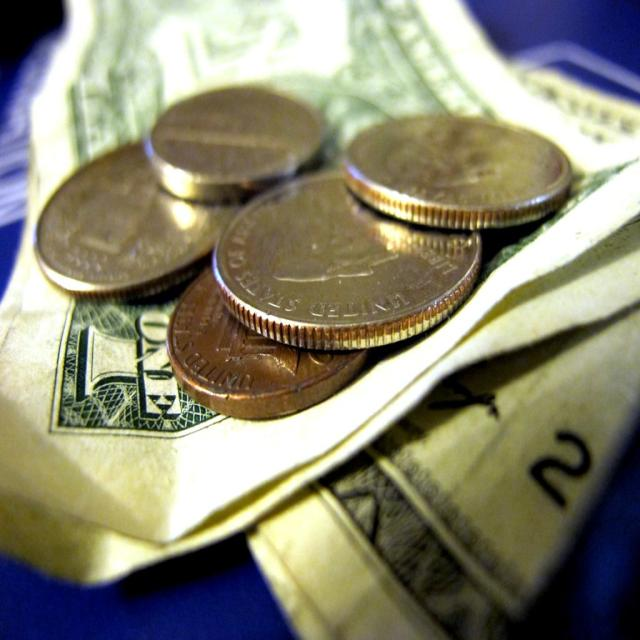Coin: (30, 75, 574, 420)
